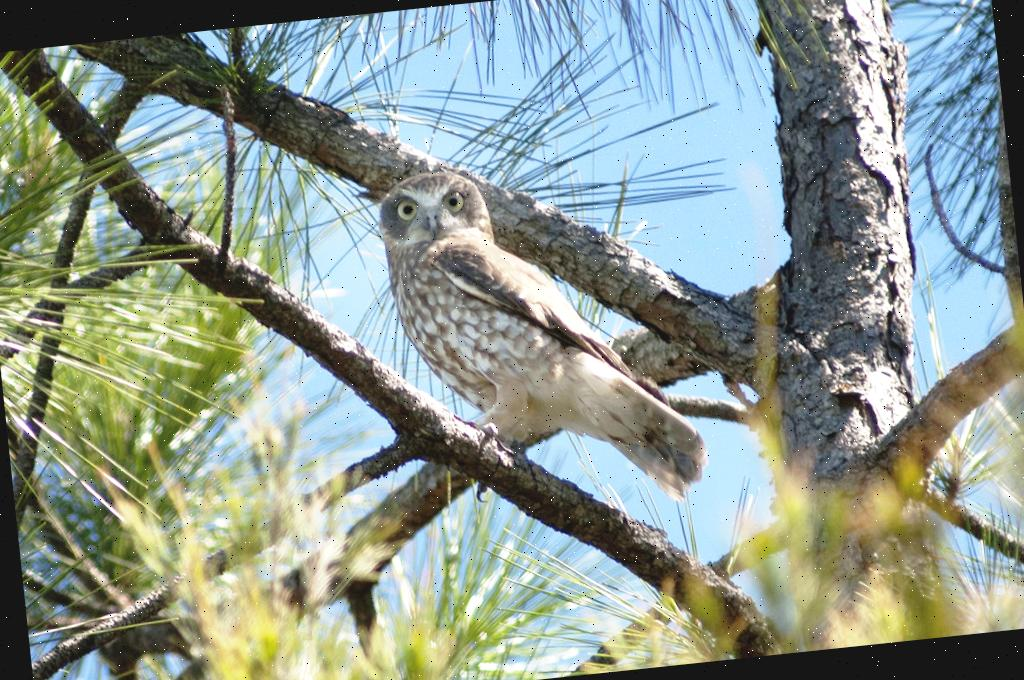Owl: (361, 144, 708, 546)
